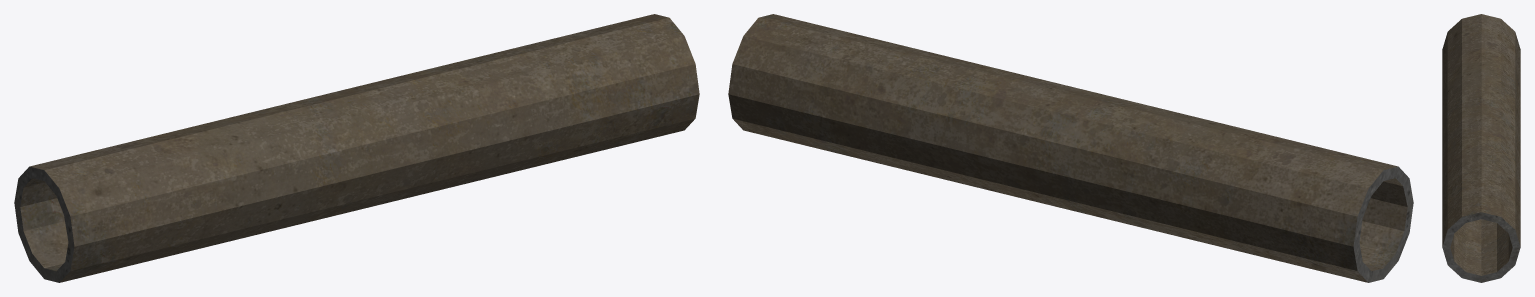
The model's file is middlepiece_open.obj.
3 views of the same model, side by side, from view 1: azimuth 30°, elevation 25°; view 2: azimuth 150°, elevation 25°; view 3: azimuth 270°, elevation 25° (orthographic). The views are drawn at different scales.
Visible parts, largest first — view 1: middlepiece_open; view 2: middlepiece_open; view 3: middlepiece_open.
Part boxes in pixels (x1,y1,x2,y2): middlepiece_open: (14, 14, 699, 282); middlepiece_open: (728, 14, 1413, 282); middlepiece_open: (1442, 14, 1520, 282).
Size of the model in its own units: 3 by 0.5 by 0.5.
1 material, 1 textured.
